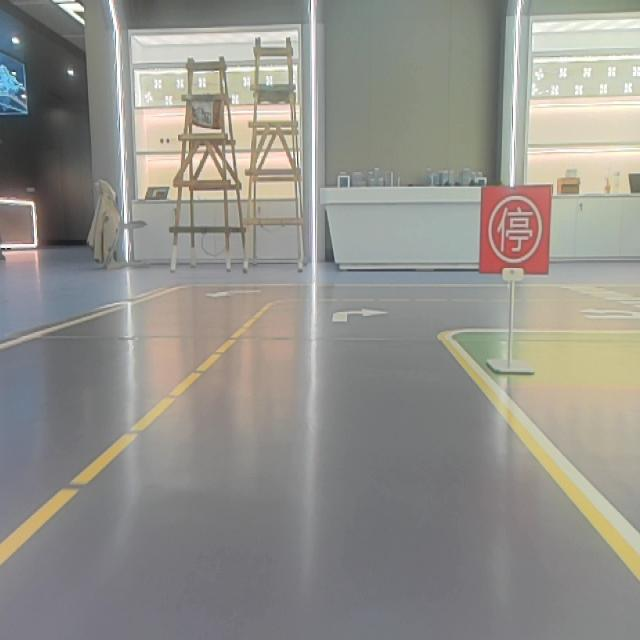left_lane: (1, 308, 260, 569)
right_lane: (436, 331, 640, 580), (1, 287, 169, 354)
